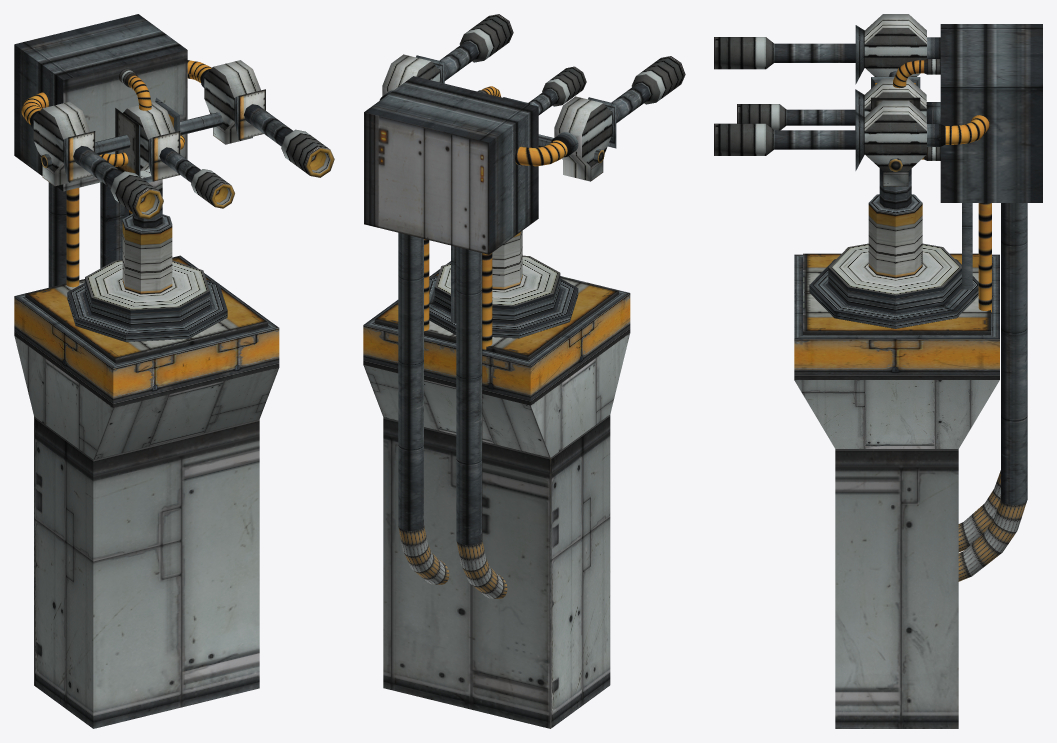
File: torremuro.fbx
3 views of the same model, side by side, from view 1: azimuth 30°, elevation 25°; view 2: azimuth 150°, elevation 25°; view 3: azimuth 270°, elevation 25° (orthographic). The views are drawn at different scales.
Parts seen in each view (by area): view 1: Cylinder.001; view 2: Cylinder.001; view 3: Cylinder.001.
Boxes of the visible parts, bbox=[...] form: Cylinder.001: bbox=[14, 14, 334, 728]; Cylinder.001: bbox=[363, 14, 685, 728]; Cylinder.001: bbox=[714, 14, 1042, 728].
Size of the model in its own units: 2.6 by 7.36 by 3.47.
